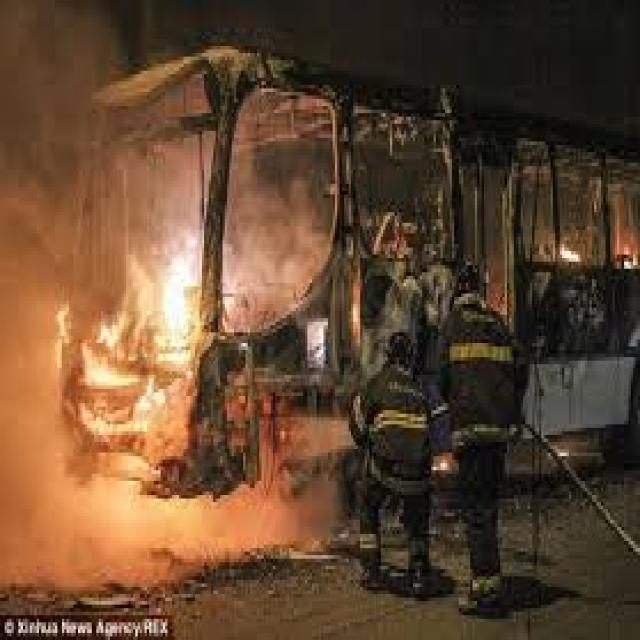Fire: (160, 262, 192, 346), (72, 345, 128, 389)
Smoke: (0, 7, 132, 474), (0, 401, 276, 555), (243, 177, 313, 287)
